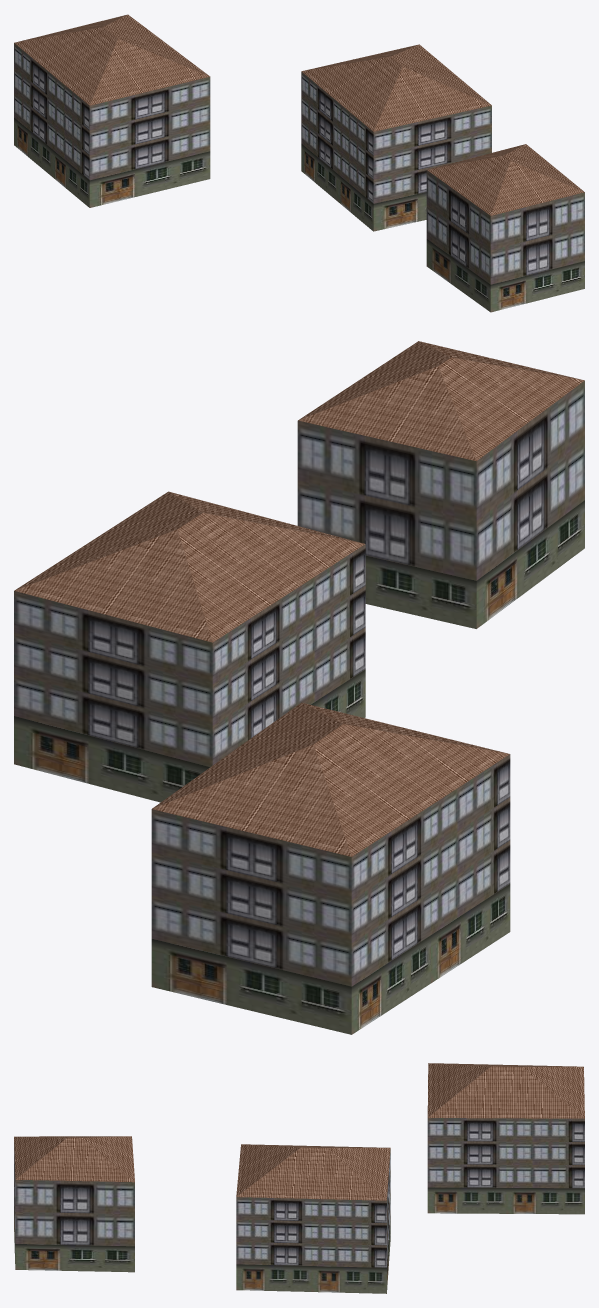
The model's file is GrupoEdificios6.FBX.
The picture shows the model from 3 angles, top to bottom: view 1: azimuth 30°, elevation 25°; view 2: azimuth 150°, elevation 25°; view 3: azimuth 270°, elevation 25°; orthographic projection. The views are drawn at different scales.
Visible parts, largest first — view 1: Model49, Model8, Model34; view 2: Model49, Model8, Model34; view 3: Model49, Model8, Model34.
Boxes of the visible parts, x1=… form: Model49: x1=14, y1=14, x2=210, y2=207; Model8: x1=301, y1=44, x2=491, y2=231; Model34: x1=426, y1=144, x2=584, y2=312; Model49: x1=151, y1=702, x2=510, y2=1034; Model8: x1=14, y1=491, x2=365, y2=802; Model34: x1=297, y1=341, x2=584, y2=628; Model49: x1=427, y1=1063, x2=584, y2=1214; Model8: x1=236, y1=1144, x2=390, y2=1293; Model34: x1=14, y1=1136, x2=134, y2=1272.
Bounding box in the file's own units: 3469 × 1438 × 5977.
